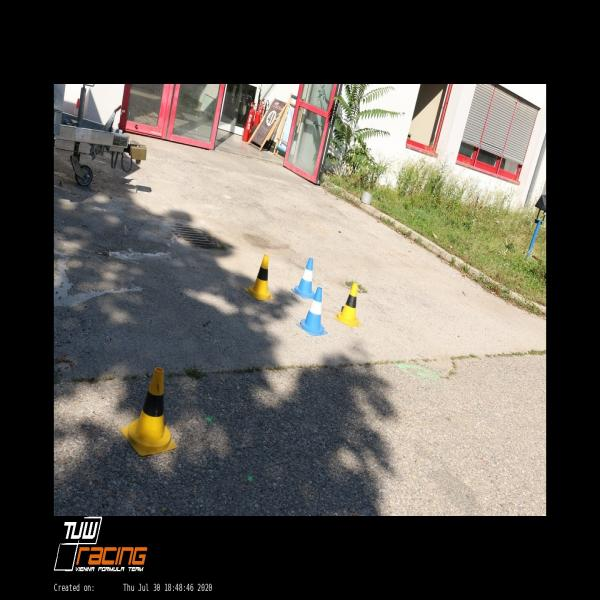blue_cone: (297, 286, 328, 336), (291, 257, 316, 299)
yellow_cone: (120, 367, 177, 456), (244, 253, 274, 301), (334, 281, 361, 327)
